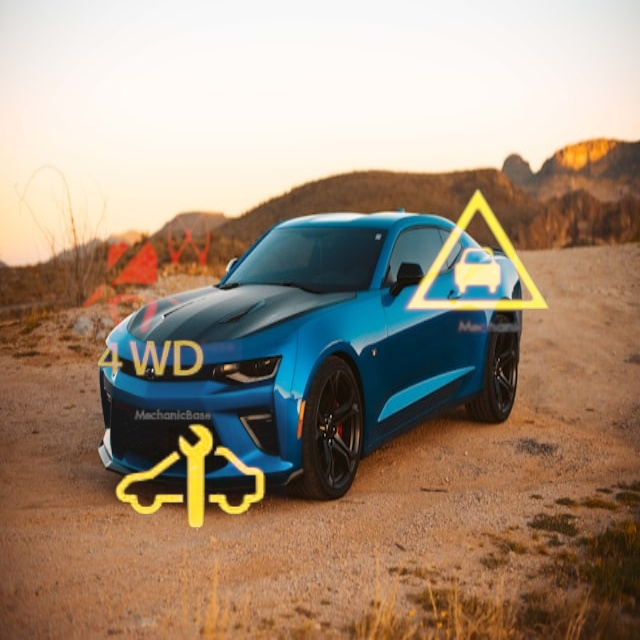symbol: (91, 381, 287, 577), (52, 171, 242, 361), (389, 164, 566, 341), (83, 293, 216, 426)
